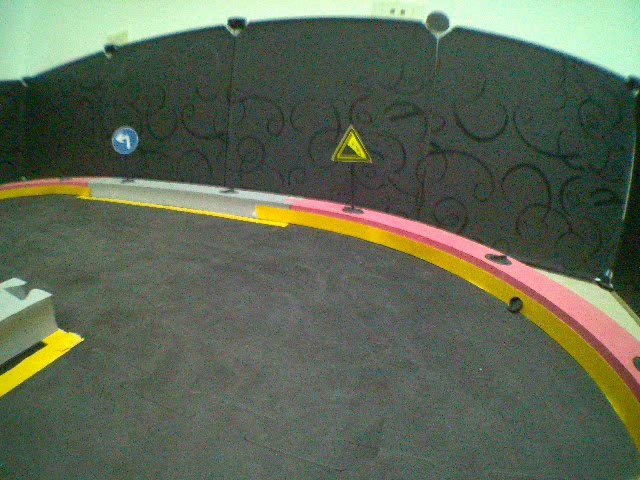fast: (331, 124, 373, 164)
turn: (109, 125, 140, 154)
